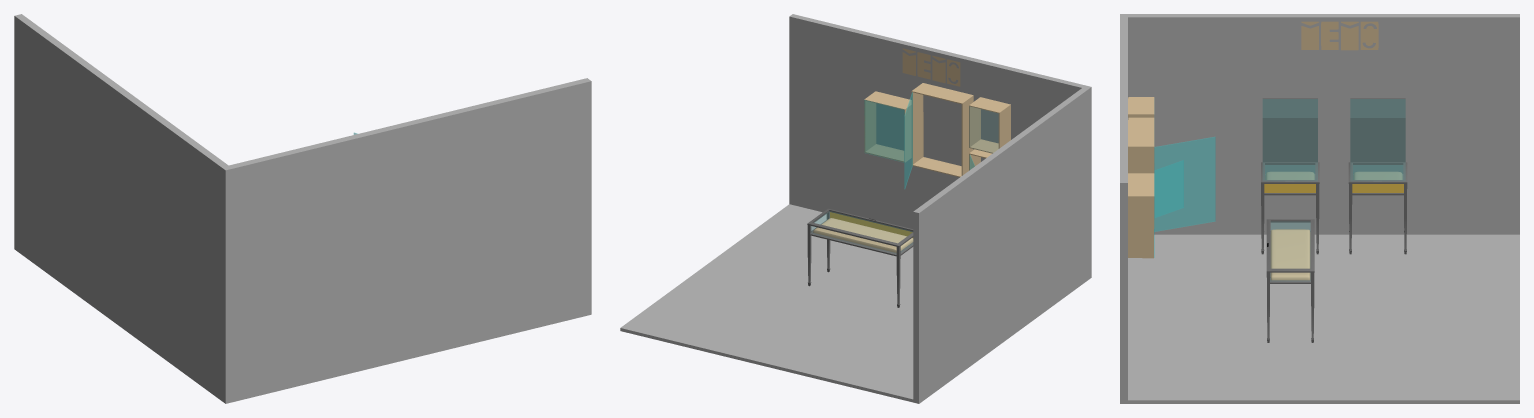
The model's file is Showcase Store-v2.glb.
3 renders of one model, left to right at view 1: azimuth 30°, elevation 25°; view 2: azimuth 150°, elevation 25°; view 3: azimuth 270°, elevation 25°, orthographic. The views are drawn at different scales.
Visible parts, largest first — view 1: loja_joias_minimalista; view 2: loja_joias_minimalista, Material2.001, Cube, trophy_table_long_Cube, trophy_table_long_Cube.005, Logo-Memo-Gold-2.svg.001, Cube.001, Cube.002, trophy_table_long_Cube.003; view 3: loja_joias_minimalista, Cube.002, trophytable1_short_Cube.010, trophytable1_short_Cube.005, Material2.001, Logo-Memo-Gold-2.svg.002, trophy_table_long_Cube.005, trophy_table_long_Cube, Cube.003, trophytable1_short_Cube.002, trophytable1_short_Cube.017, trophytable1_short_Cube.004 (+1 smaller).
Boxes of the visible parts, x1=… form: loja_joias_minimalista: x1=14, y1=14, x2=591, y2=403; loja_joias_minimalista: x1=620, y1=14, x2=1091, y2=403; Material2.001: x1=864, y1=83, x2=1010, y2=177; Cube: x1=864, y1=100, x2=904, y2=162; trophy_table_long_Cube: x1=807, y1=208, x2=913, y2=307; trophy_table_long_Cube.005: x1=813, y1=218, x2=913, y2=252; Logo-Memo-Gold-2.svg.001: x1=902, y1=48, x2=960, y2=86; Cube.001: x1=969, y1=106, x2=998, y2=152; Cube.002: x1=904, y1=92, x2=912, y2=188; trophy_table_long_Cube.003: x1=830, y1=212, x2=913, y2=237; loja_joias_minimalista: x1=1120, y1=14, x2=1519, y2=403; Cube.002: x1=1154, y1=137, x2=1215, y2=231; trophytable1_short_Cube.010: x1=1261, y1=98, x2=1319, y2=254; trophytable1_short_Cube.005: x1=1348, y1=98, x2=1407, y2=254; Material2.001: x1=1128, y1=97, x2=1154, y2=258; Logo-Memo-Gold-2.svg.002: x1=1301, y1=21, x2=1378, y2=50; trophy_table_long_Cube.005: x1=1270, y1=229, x2=1310, y2=280; trophy_table_long_Cube: x1=1266, y1=219, x2=1314, y2=342; Cube.003: x1=1154, y1=160, x2=1183, y2=217; trophytable1_short_Cube.002: x1=1352, y1=184, x2=1403, y2=192; trophytable1_short_Cube.017: x1=1264, y1=184, x2=1315, y2=192; trophytable1_short_Cube.004: x1=1353, y1=171, x2=1402, y2=179.
Size of the model in its own units: 6.33 by 3.86 by 6.33.
